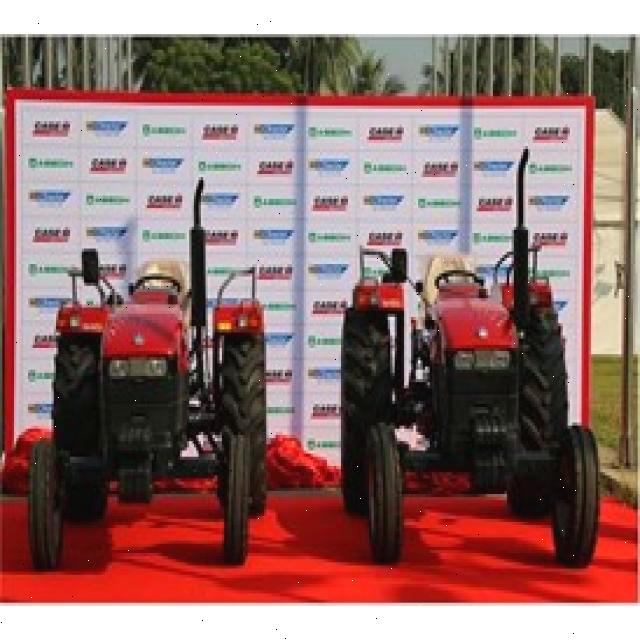Tratores - v5 YOLO V8L 2024-11-13: (332, 136, 598, 560), (18, 171, 266, 572)
